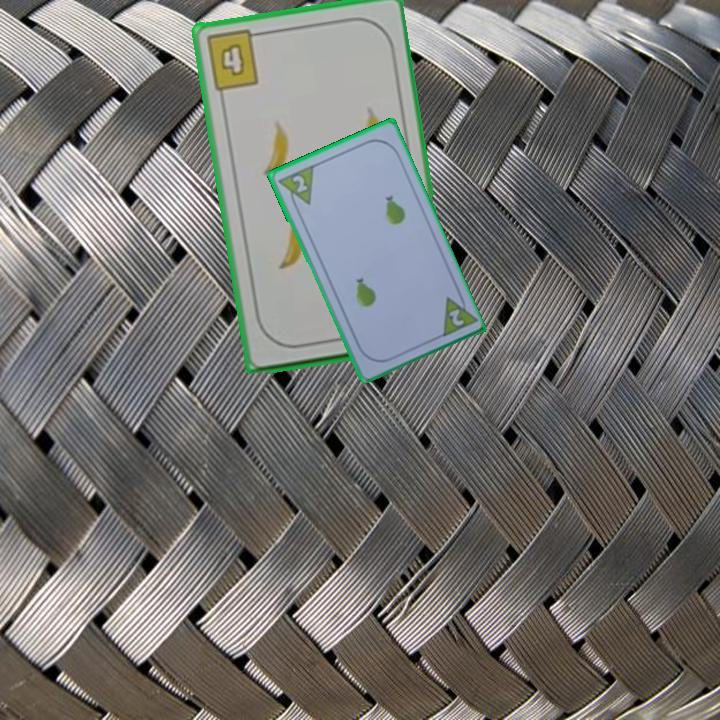2p: (274, 161, 316, 213), (445, 305, 467, 329)
4b: (202, 27, 266, 94)
